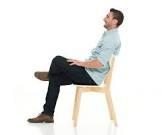bad-pose: (0, 0, 162, 135)
